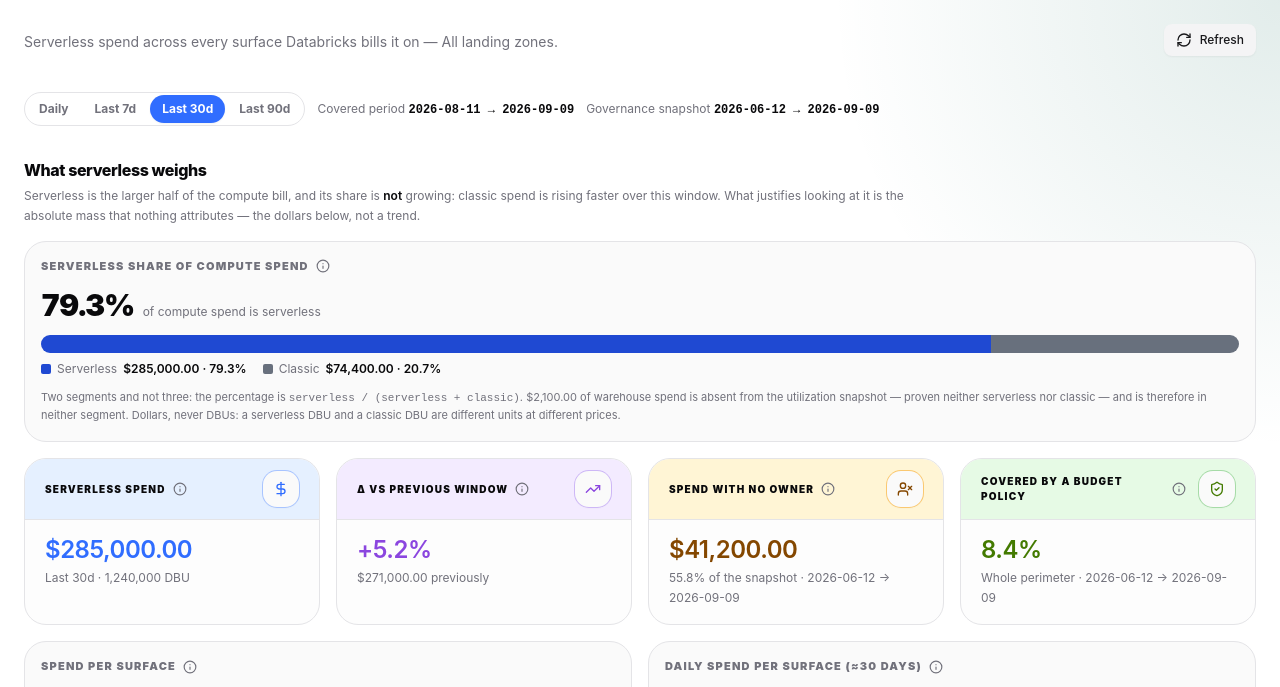
Test: ComputeServerless — block 3, the levers that exist › reads the failure rate from the response instead of printing a constant
The image size is (1280, 687).
Click the button "Last 7d" at (115, 109), box [82, 95, 148, 123]
(page scrolled)
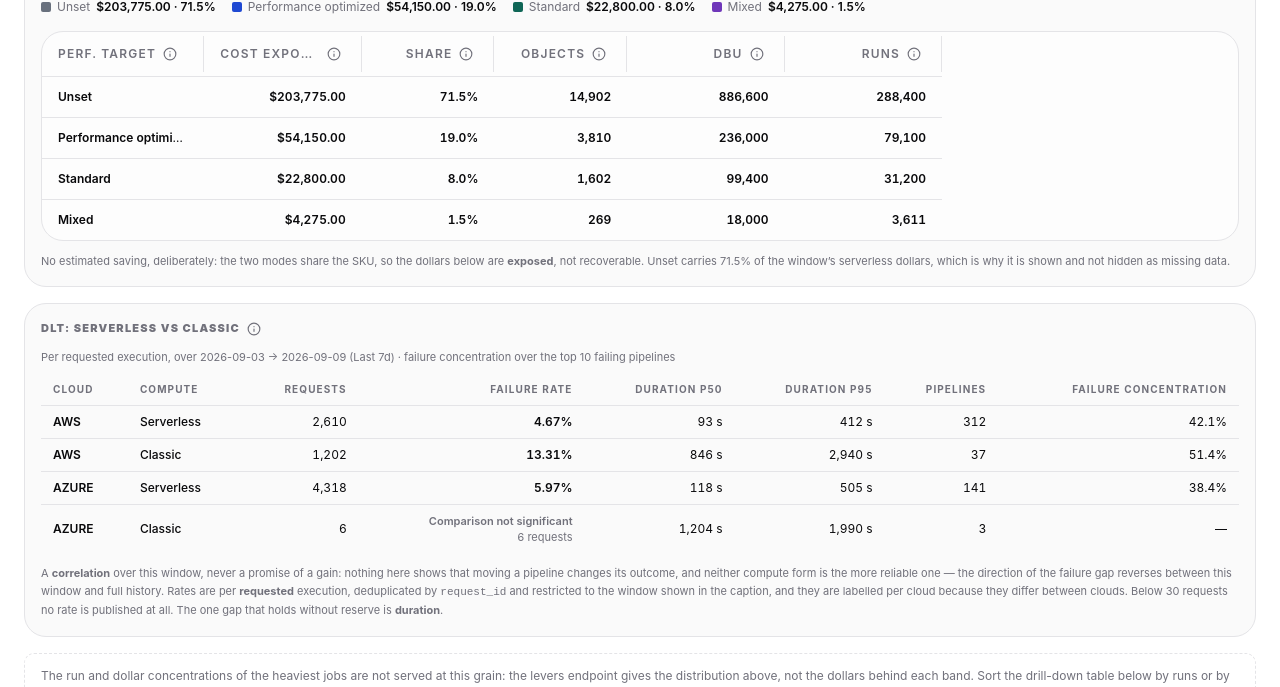
Expected: the text "4.67%" is shown, [534, 414, 573, 429]
Expected: the text "Per requested execution, over" shows "2026-09-03", [200, 350, 346, 364]
